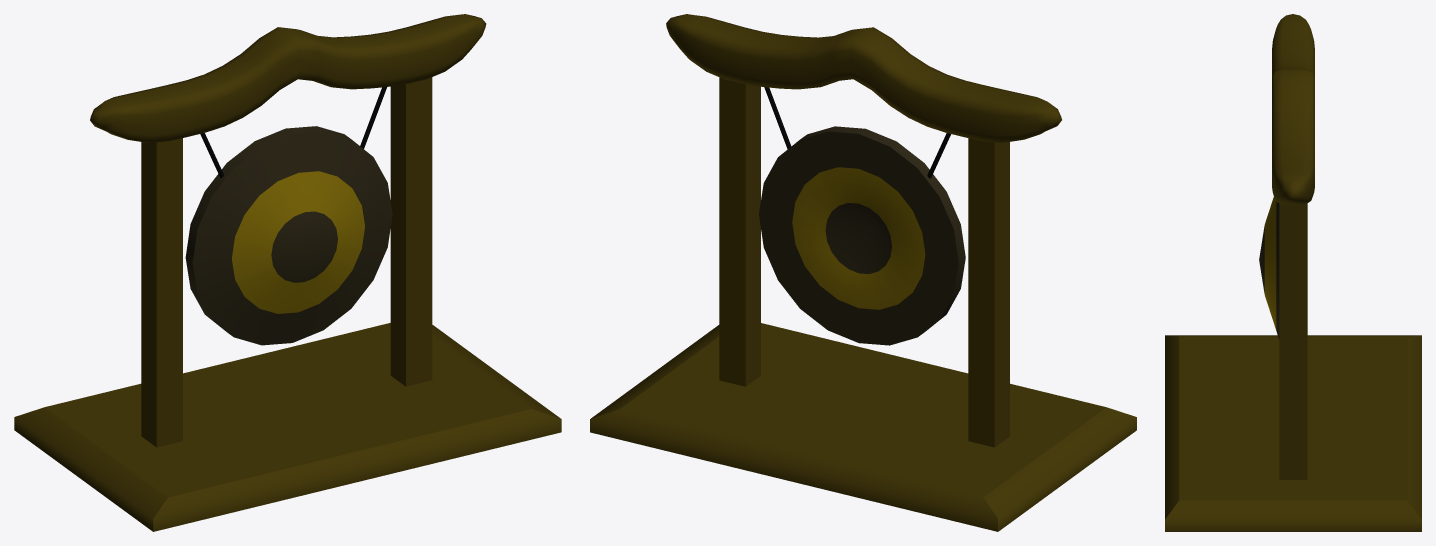
File: gong.fbx
3 renders of one model, left to right at view 1: azimuth 30°, elevation 25°; view 2: azimuth 150°, elevation 25°; view 3: azimuth 270°, elevation 25°, orthographic. The views are drawn at different scales.
Visible parts, largest first — view 1: pCube7, pCylinder1, pCube8, pCube5, pCube6; view 2: pCube7, pCylinder1, pCube8, pCube6, pCube5; view 3: pCube7, pCube5, pCube8, pCylinder1.
Boxes of the visible parts, left/top/right/bottom form: pCube7: left=14, top=323, right=561, bottom=531; pCylinder1: left=185, top=126, right=392, bottom=345; pCube8: left=90, top=14, right=486, bottom=142; pCube5: left=390, top=77, right=432, bottom=386; pCube6: left=141, top=138, right=182, bottom=447; pCube7: left=590, top=323, right=1136, bottom=531; pCylinder1: left=759, top=126, right=965, bottom=345; pCube8: left=666, top=14, right=1061, bottom=142; pCube6: left=968, top=138, right=1009, bottom=447; pCube5: left=719, top=77, right=760, bottom=386; pCube7: left=1165, top=335, right=1421, bottom=531; pCube5: left=1279, top=203, right=1307, bottom=479; pCube8: left=1272, top=14, right=1314, bottom=204; pCylinder1: left=1259, top=197, right=1279, bottom=339.
Bounding box in the file's own units: 10.1 × 9.44 × 5.95.
